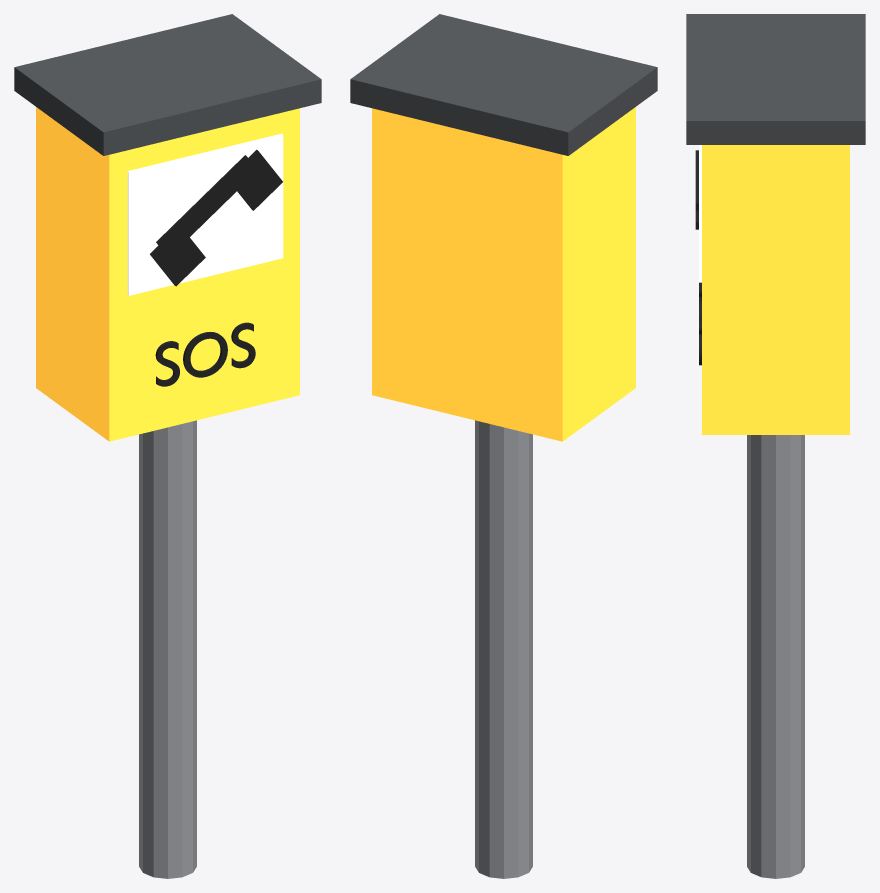
Rendered from layby_phone.glb.
3 views of the same model, side by side, from view 1: azimuth 30°, elevation 25°; view 2: azimuth 150°, elevation 25°; view 3: azimuth 270°, elevation 25° (orthographic).
Parts seen in each view (by area): view 1: layby_phone; view 2: layby_phone; view 3: layby_phone.
Part boxes in pixels (left/top/right/bottom): layby_phone: left=14, top=14, right=321, bottom=878; layby_phone: left=350, top=14, right=657, bottom=878; layby_phone: left=686, top=14, right=865, bottom=878.
Bounding box in the file's own units: 0.48 × 1.67 × 0.34.
